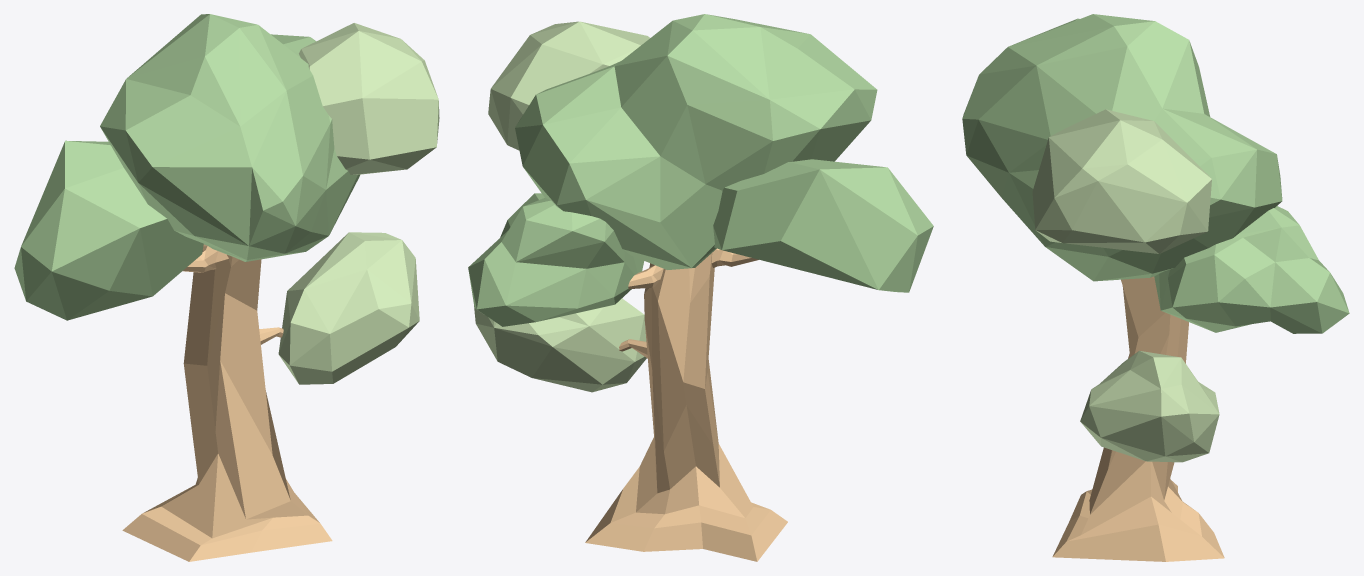
File: Tree 3.fbx
3 renders of one model, left to right at view 1: azimuth 30°, elevation 25°; view 2: azimuth 150°, elevation 25°; view 3: azimuth 270°, elevation 25°, orthographic.
Visible parts, largest first — view 1: Tree 3; view 2: Tree 3; view 3: Tree 3.
Boxes of the visible parts, <box> form: Tree 3: <box>14,14,439,561</box>; Tree 3: <box>468,14,933,561</box>; Tree 3: <box>962,14,1349,561</box>.
Size of the model in its own units: 145 by 169 by 118.
